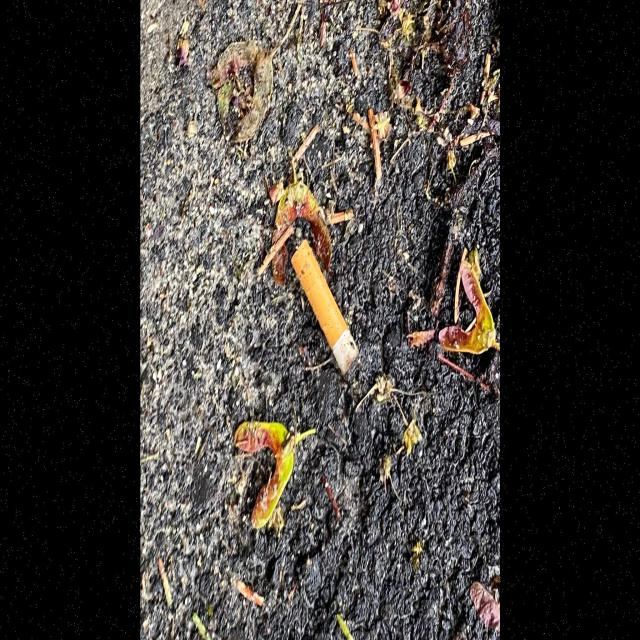other waste: (288, 236, 360, 378)
